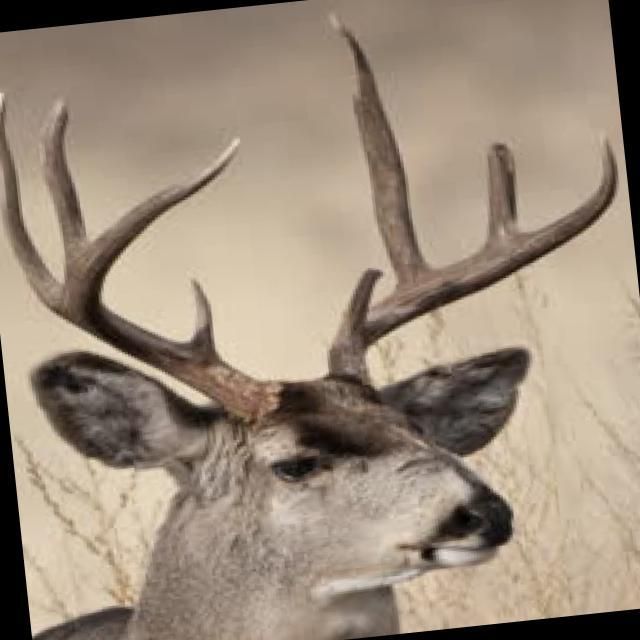L-F: (329, 143, 616, 379)
R-F: (60, 134, 283, 417)
